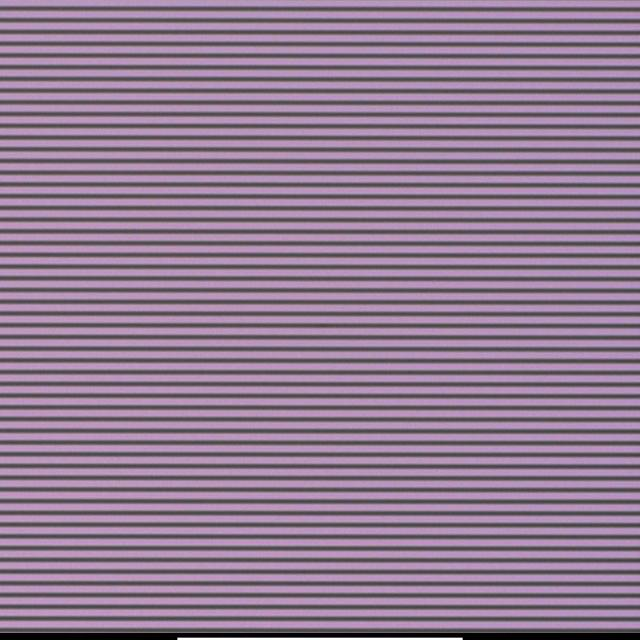03_intrusion: (321, 289, 329, 302)
